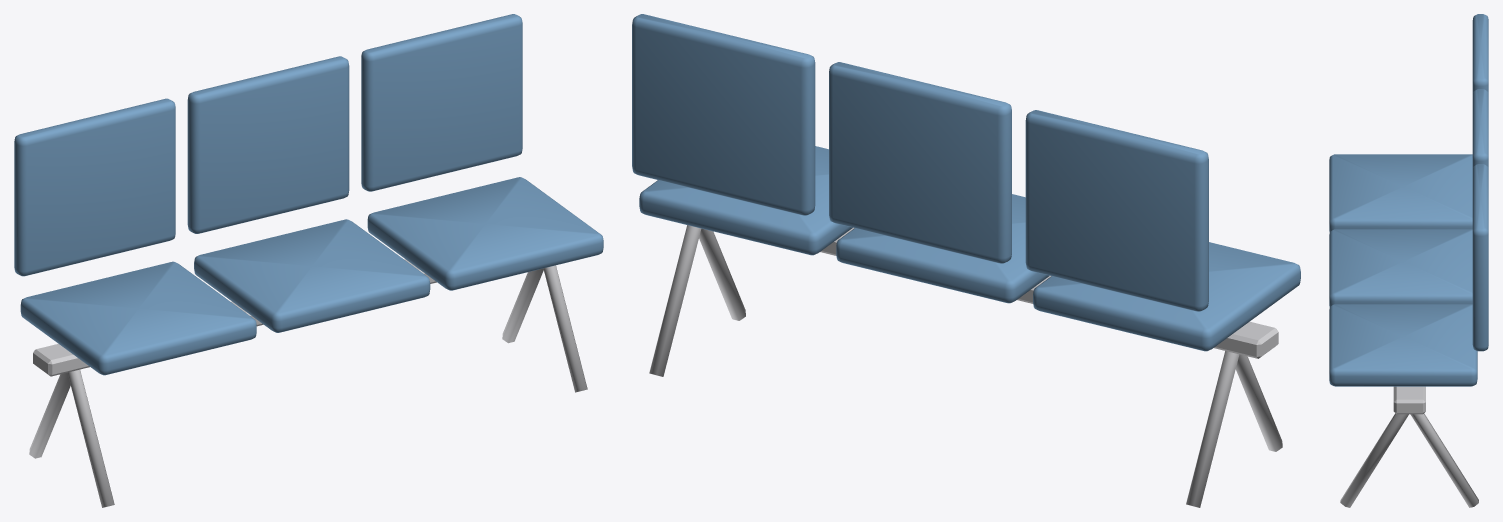
The model's file is waiting_chairs.glb.
3 renders of one model, left to right at view 1: azimuth 30°, elevation 25°; view 2: azimuth 150°, elevation 25°; view 3: azimuth 270°, elevation 25°, orthographic. The views are drawn at different scales.
Visible parts, largest first — view 1: WaitingChairs; view 2: WaitingChairs; view 3: WaitingChairs.
Part boxes in pixels (box(x1,y1,x2,y2)): WaitingChairs: box(14, 14, 603, 507); WaitingChairs: box(632, 14, 1300, 507); WaitingChairs: box(1329, 14, 1488, 507).
Bounding box in the file's own units: 1.7 × 0.9686 × 0.495.
